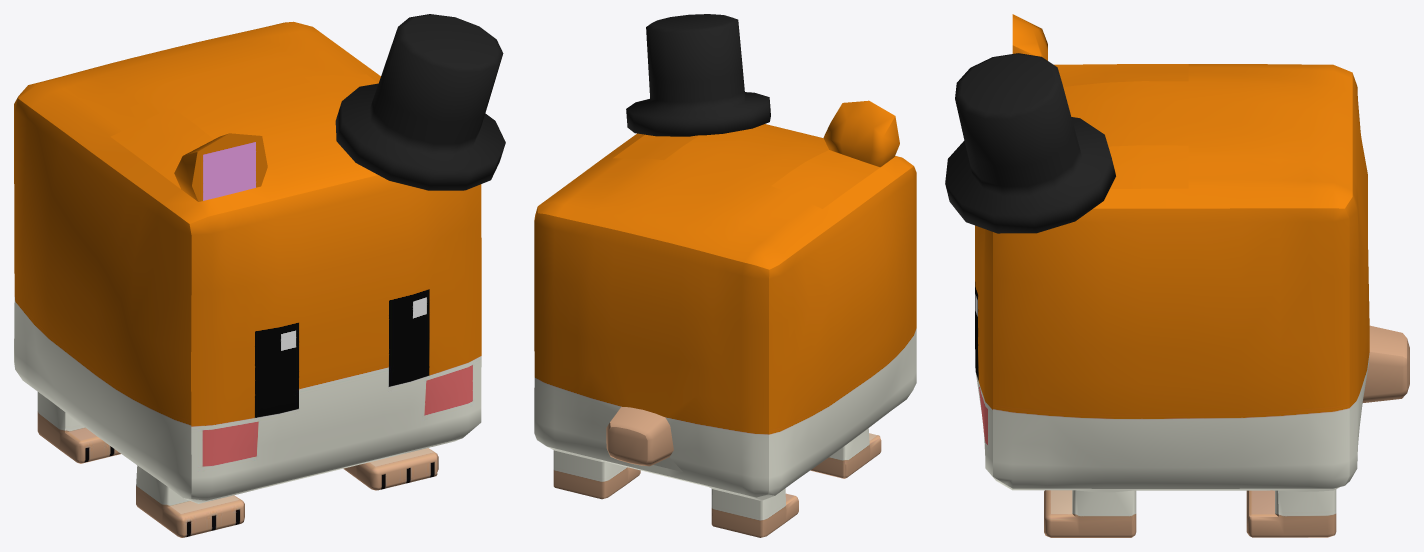
File: SideTopHatIdle.fbx
3 renders of one model, left to right at view 1: azimuth 30°, elevation 25°; view 2: azimuth 150°, elevation 25°; view 3: azimuth 270°, elevation 25°, orthographic. The views are drawn at different scales.
Parts seen in each view (by area): view 1: pCube11; view 2: pCube11; view 3: pCube11.
Part boxes in pixels (x1,y1,x2,y2): pCube11: [14, 14, 505, 537]; pCube11: [534, 14, 916, 537]; pCube11: [945, 14, 1409, 537].
Bounding box in the file's own units: 4.39 × 5.64 × 5.14.
